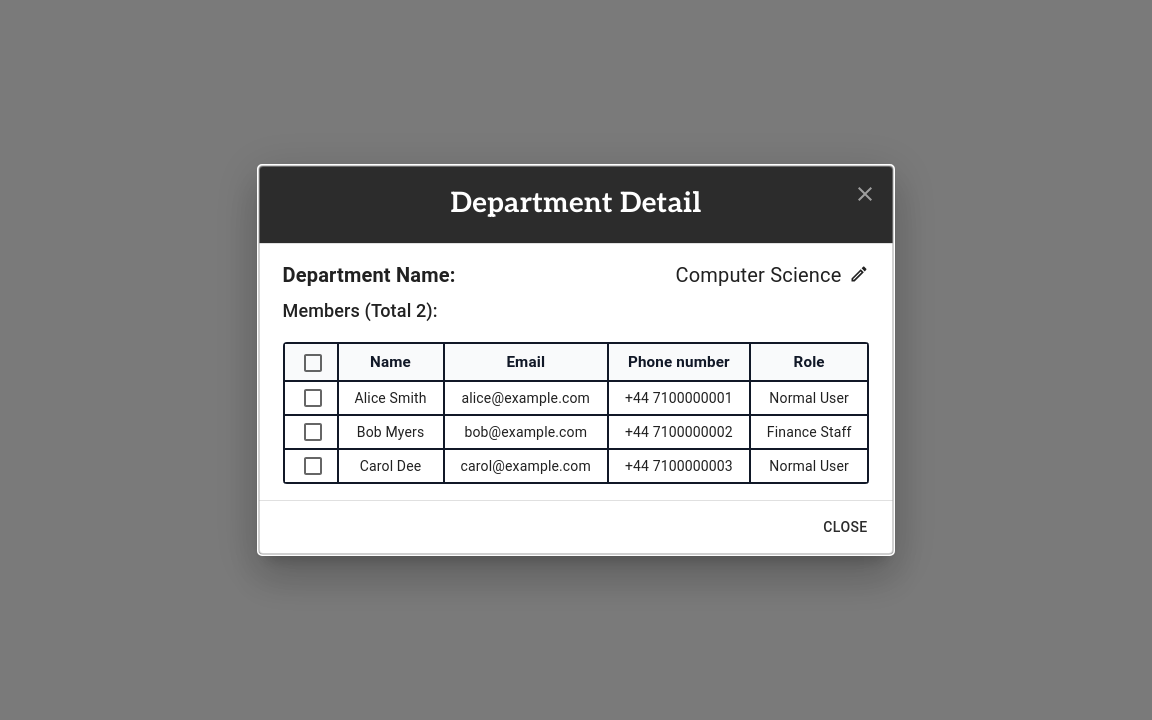
Test: Super-admin ViewDepartmentDialog › clicking middle row deselects it while keeping others
The width and height of the screenshot is (1152, 720).
Expected: the text "Alice Smith" is shown, [338,382,445,416]
Click the checkbox named "select all desserts" at (312,362), box [300,350,324,374]
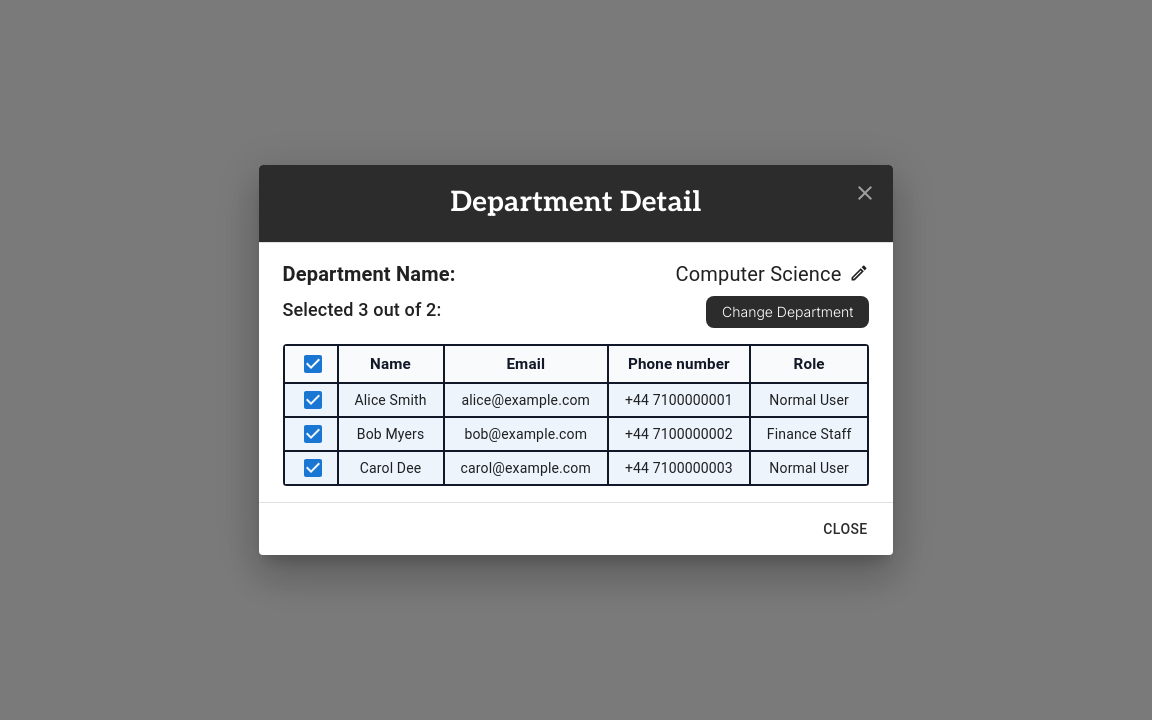
Result: the text "Selected 3 out of 2:" is shown at [282,296,441,328]
Click the checkbox "Bob Myers" at (576,435), box [282,418,870,452]
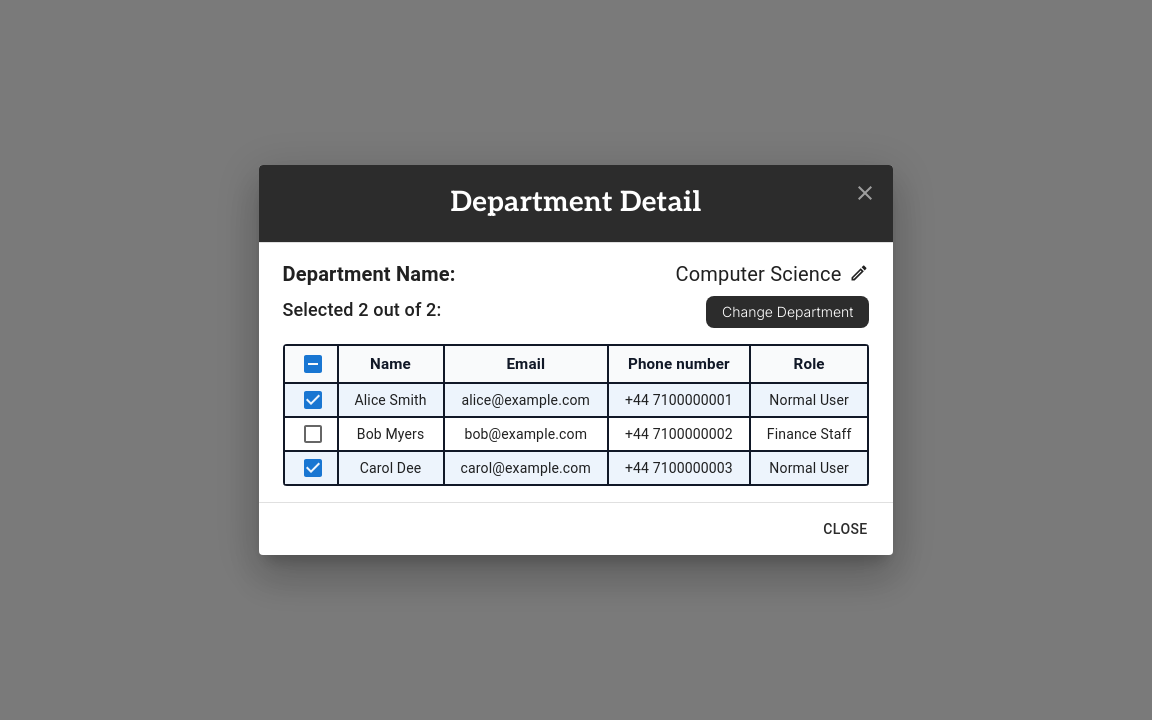
Result: the text "Selected 2 out of 2:" is shown at [282,296,441,328]
